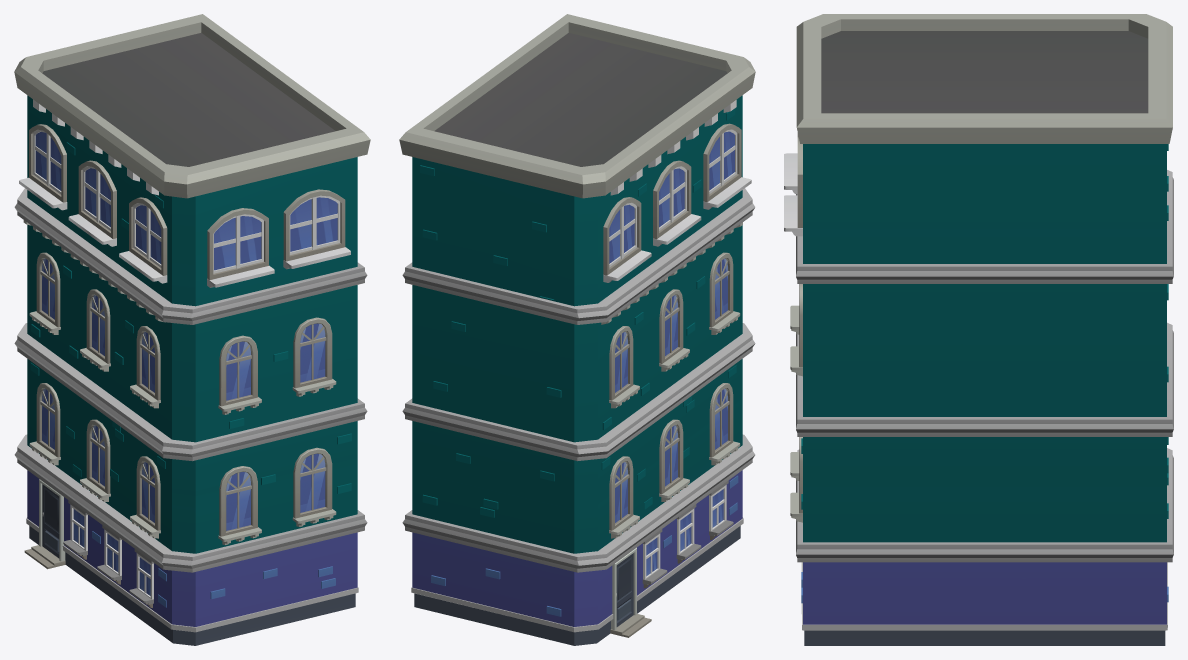
The model's file is Building_18_2_J.glb.
The picture shows the model from 3 angles, left to right: view 1: azimuth 30°, elevation 25°; view 2: azimuth 150°, elevation 25°; view 3: azimuth 270°, elevation 25°; orthographic projection. The views are drawn at different scales.
Parts seen in each view (by area): view 1: Building_18_2_J; view 2: Building_18_2_J; view 3: Building_18_2_J.
Boxes of the visible parts, box(x1,y1,x2,y2) form: Building_18_2_J: box(14, 14, 370, 645); Building_18_2_J: box(399, 14, 755, 645); Building_18_2_J: box(784, 14, 1173, 645).
Size of the model in its own units: 7.19 by 15.94 by 10.59.
3 materials, 3 textured.
